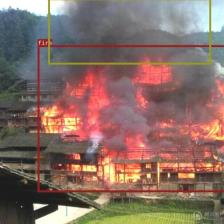fire: (37, 45, 224, 191)
smoke: (48, 0, 211, 64)
